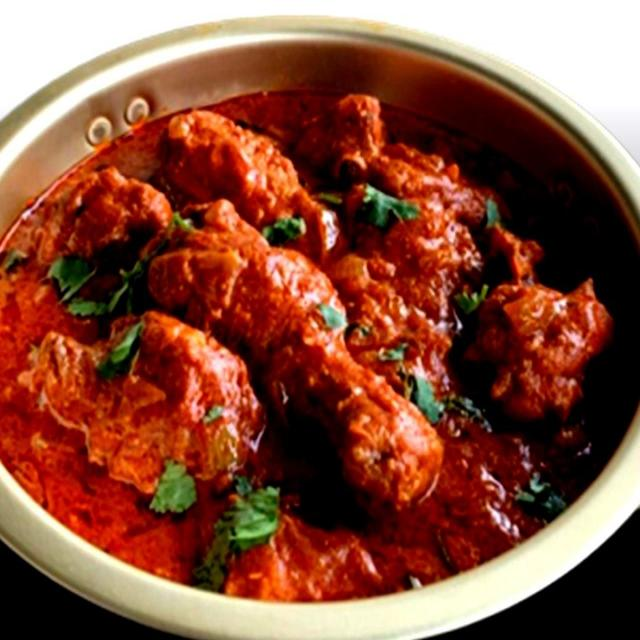chicken: (1, 46, 640, 588)
